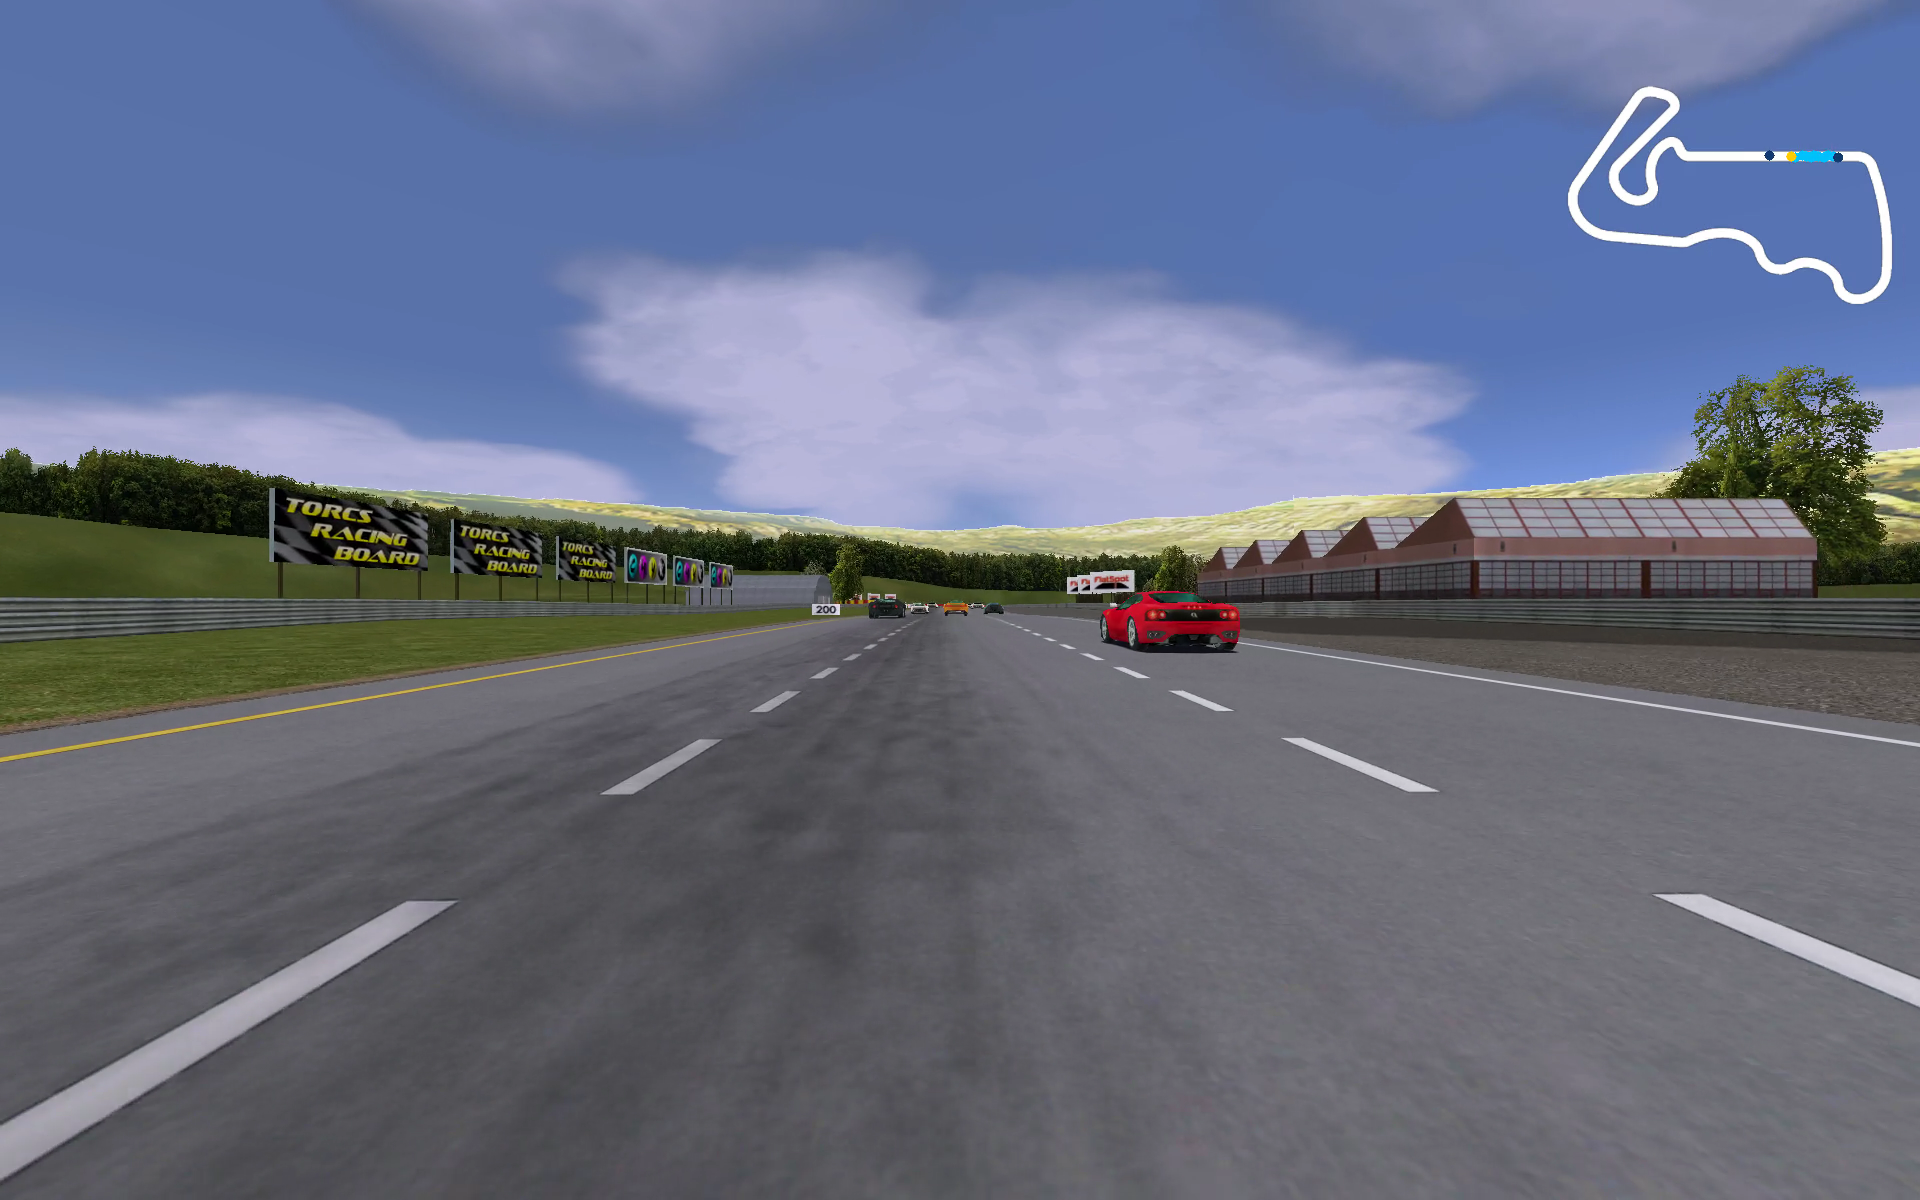car: (1099, 588, 1247, 653), (864, 590, 907, 622), (941, 597, 970, 618), (981, 604, 1009, 617), (907, 603, 933, 615)
